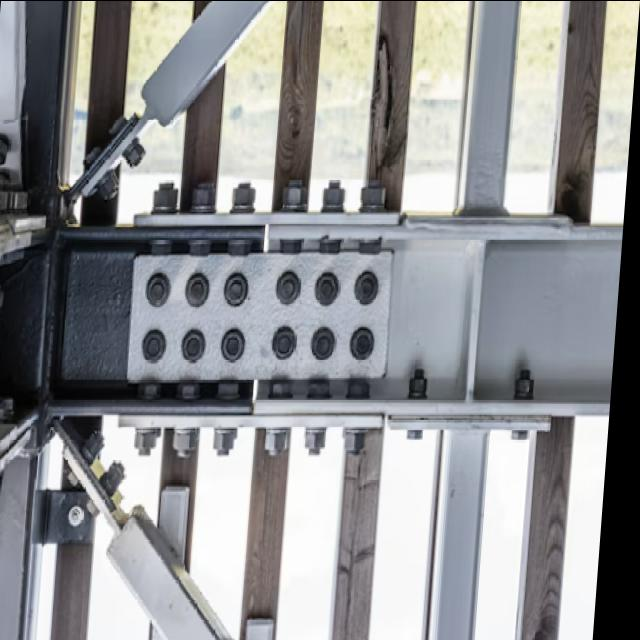Regular bolt: (230, 181, 263, 214), (145, 328, 174, 364), (316, 272, 345, 308), (322, 181, 352, 215), (357, 271, 385, 307), (151, 183, 185, 212), (316, 325, 342, 362), (186, 328, 212, 364), (225, 328, 251, 364), (356, 326, 382, 362), (150, 273, 176, 309), (189, 272, 215, 308), (228, 272, 254, 308), (283, 180, 313, 211), (175, 431, 207, 460), (192, 182, 221, 214), (276, 327, 302, 361), (280, 271, 306, 305), (518, 368, 542, 402), (360, 186, 391, 212), (307, 429, 335, 457), (138, 430, 166, 458), (217, 429, 245, 456), (269, 430, 298, 456), (346, 430, 374, 456), (416, 369, 438, 398), (140, 381, 171, 401), (219, 382, 250, 402), (188, 239, 216, 261), (181, 382, 210, 402), (272, 382, 301, 401), (228, 242, 259, 258), (280, 241, 311, 257), (358, 241, 387, 258), (313, 381, 339, 399), (152, 242, 178, 260), (350, 382, 378, 398), (319, 243, 347, 257), (515, 431, 538, 442)
